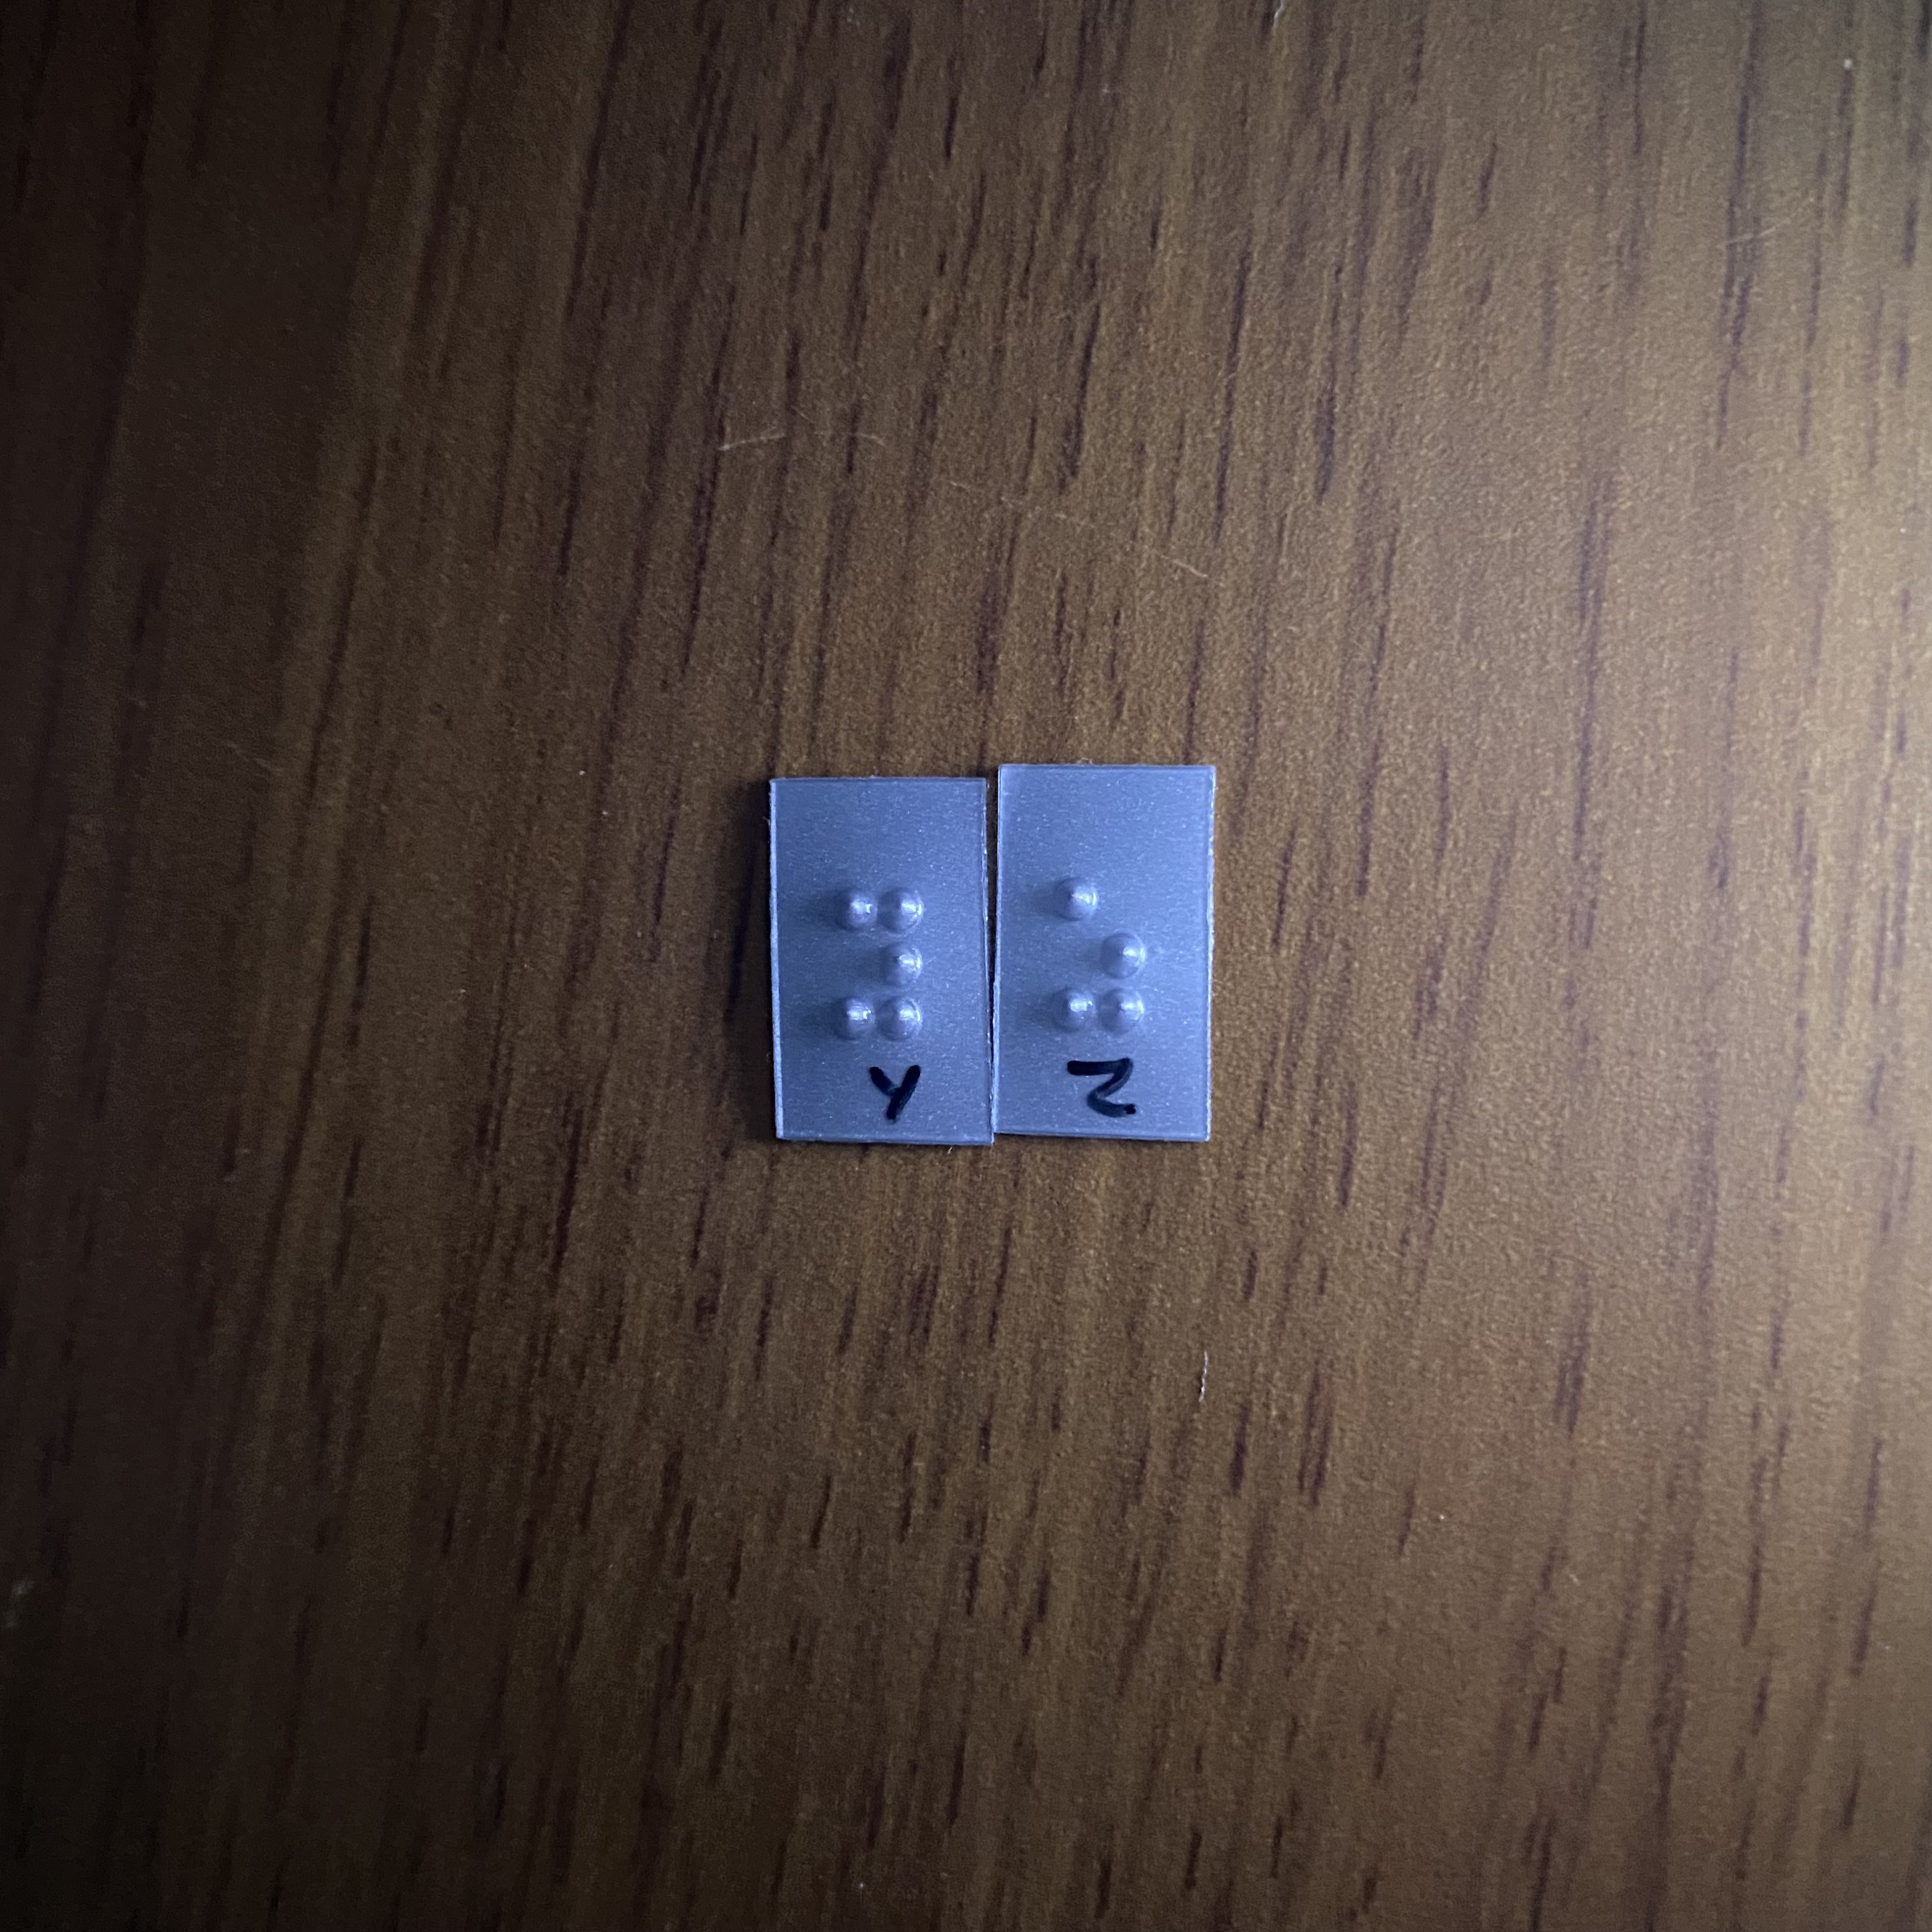y: (811, 872, 946, 1038)
z: (1023, 855, 1151, 1046)
